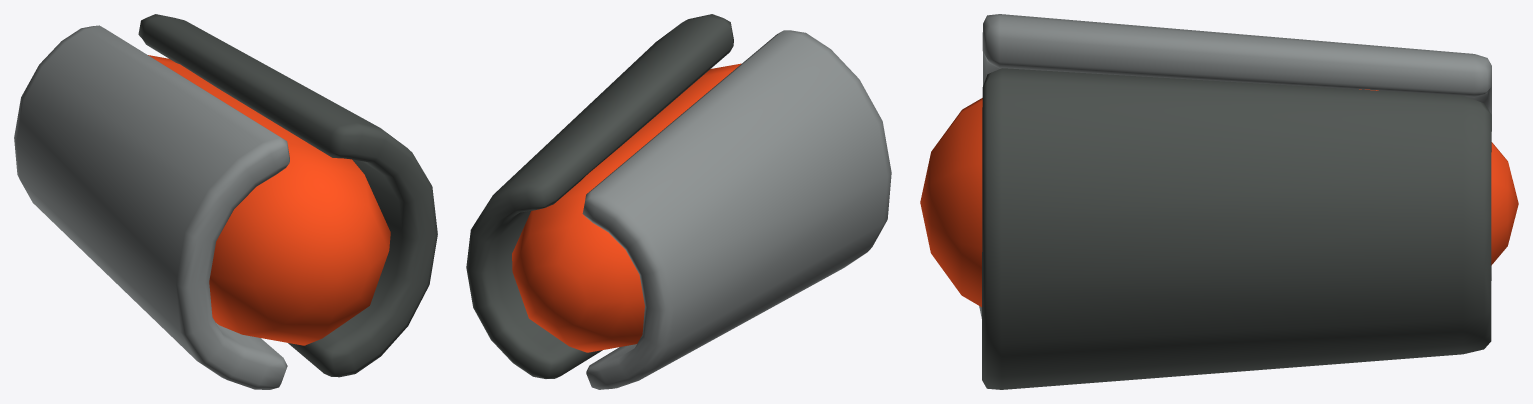
File: xsens_LeftFirstPP.dae
The picture shows the model from 3 angles, left to right: view 1: azimuth 30°, elevation 25°; view 2: azimuth 150°, elevation 25°; view 3: azimuth 270°, elevation 25°; orthographic projection. The views are drawn at different scales.
Visible parts, largest first — view 1: LeftFirstPP; view 2: LeftFirstPP; view 3: LeftFirstPP.
Boxes of the visible parts, bbox=[...] form: LeftFirstPP: bbox=[14, 14, 437, 389]; LeftFirstPP: bbox=[466, 14, 891, 389]; LeftFirstPP: bbox=[920, 14, 1518, 389].
Size of the model in its own units: 0.0218 by 0.0345 by 0.0204.
